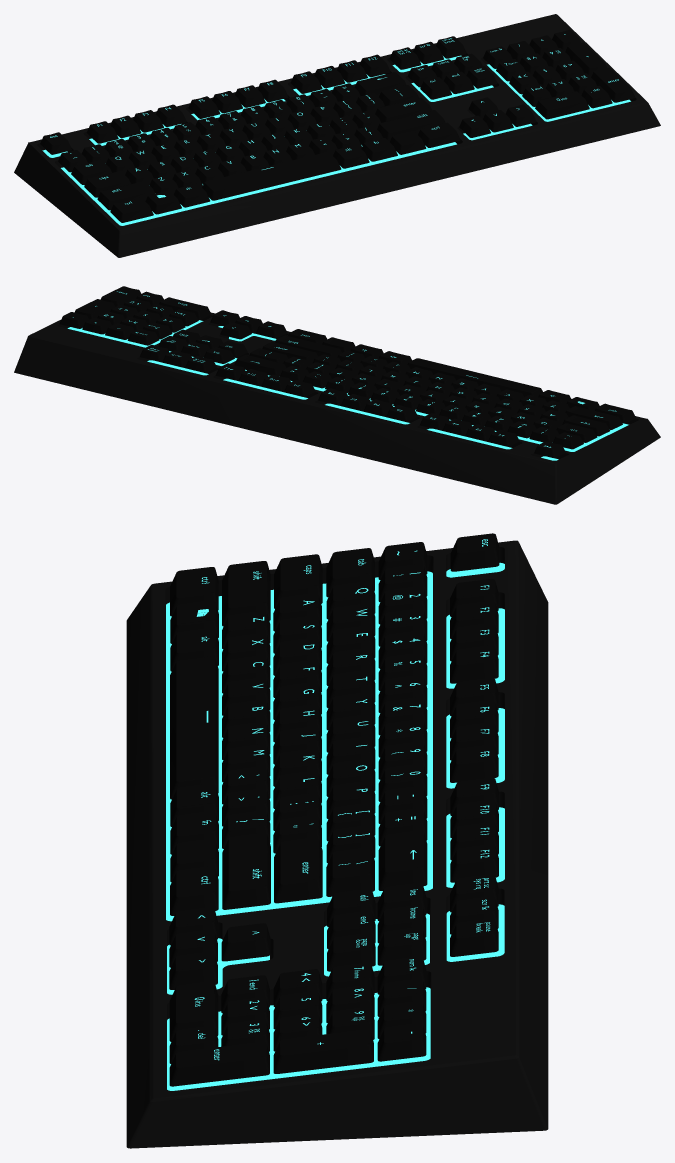
Rendered from keyboard.glb.
The picture shows the model from 3 angles, top to bottom: view 1: azimuth 30°, elevation 25°; view 2: azimuth 150°, elevation 25°; view 3: azimuth 270°, elevation 25°; orthographic projection. The views are drawn at different scales.
Parts seen in each view (by area): view 1: KeyboardKeys, Keyboard, KeyboardLight, KeyboardKeyText; view 2: KeyboardKeys, Keyboard, KeyboardLight, KeyboardKeyText; view 3: KeyboardKeys, Keyboard, KeyboardLight, KeyboardKeyText.
Boxes of the visible parts, <box> form: KeyboardKeys: <box>40,29,635,222</box>; Keyboard: <box>14,14,660,257</box>; KeyboardLight: <box>42,55,630,225</box>; KeyboardKeyText: <box>50,34,618,204</box>; KeyboardKeys: <box>59,286,635,458</box>; Keyboard: <box>14,312,660,504</box>; KeyboardLight: <box>67,320,628,460</box>; KeyboardKeyText: <box>73,291,616,447</box>; KeyboardKeys: <box>169,533,499,1086</box>; Keyboard: <box>126,540,548,1148</box>; KeyboardLight: <box>166,562,504,1090</box>; KeyboardKeyText: <box>194,539,490,1060</box>.
Bounding box in the file's own units: 0.4601 × 0.0411 × 0.1546.
